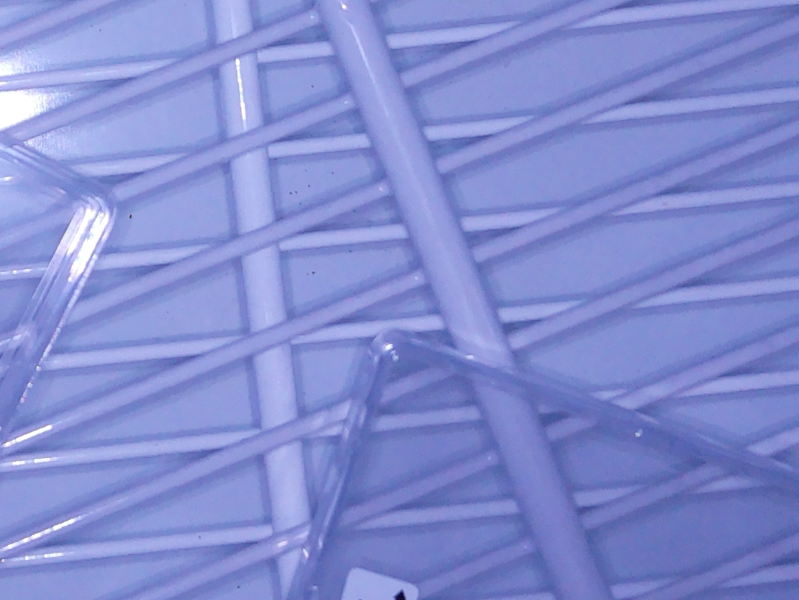plate: (289, 325, 799, 600), (1, 130, 116, 443)
